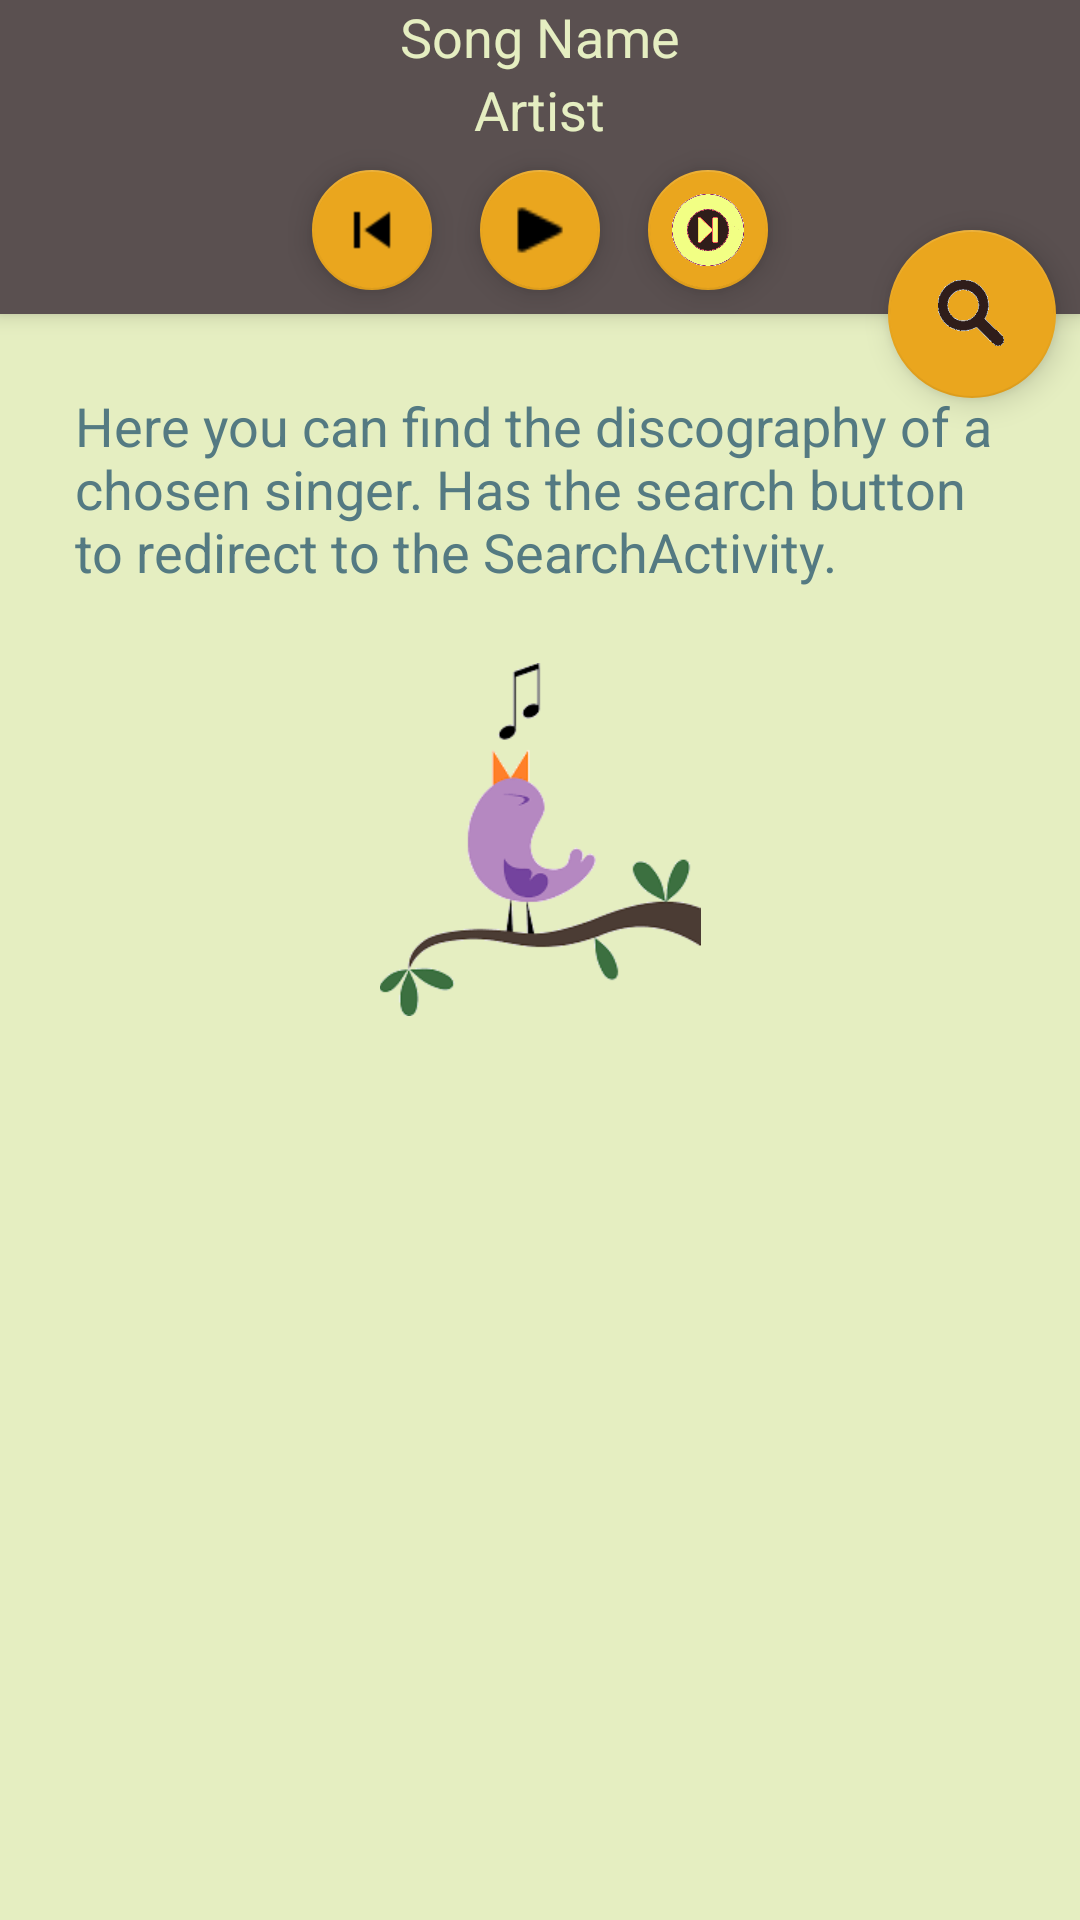

Named icons in this screenshot (1080x1920) and their centers, point (x, y):
next: point (708, 230)
play: point (540, 230)
previous: point (372, 230)
